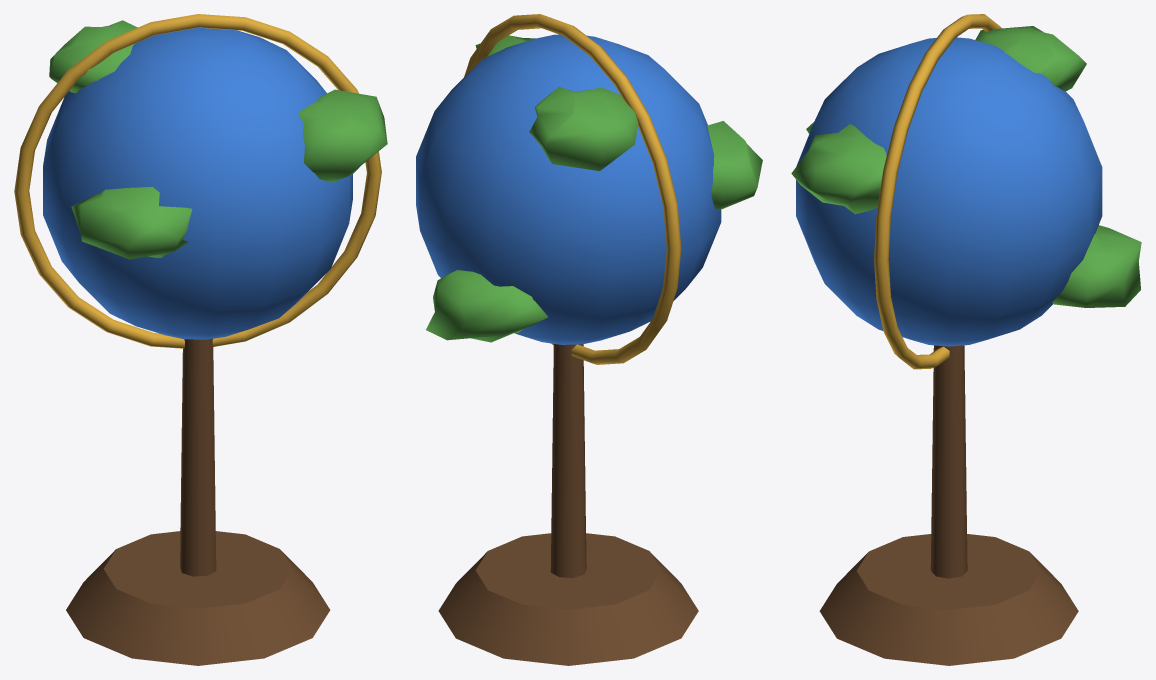
The model's file is globe.glb.
3 views of the same model, side by side, from view 1: azimuth 30°, elevation 25°; view 2: azimuth 150°, elevation 25°; view 3: azimuth 270°, elevation 25° (orthographic). The views are drawn at different scales.
Visible parts, largest first — view 1: globe_mesh; view 2: globe_mesh; view 3: globe_mesh.
Part boxes in pixels (x1,y1,x2,y2): globe_mesh: (14, 14, 387, 665); globe_mesh: (416, 14, 762, 665); globe_mesh: (791, 14, 1141, 665).
Size of the model in its own units: 0.9238 by 1.74 by 0.9463.
